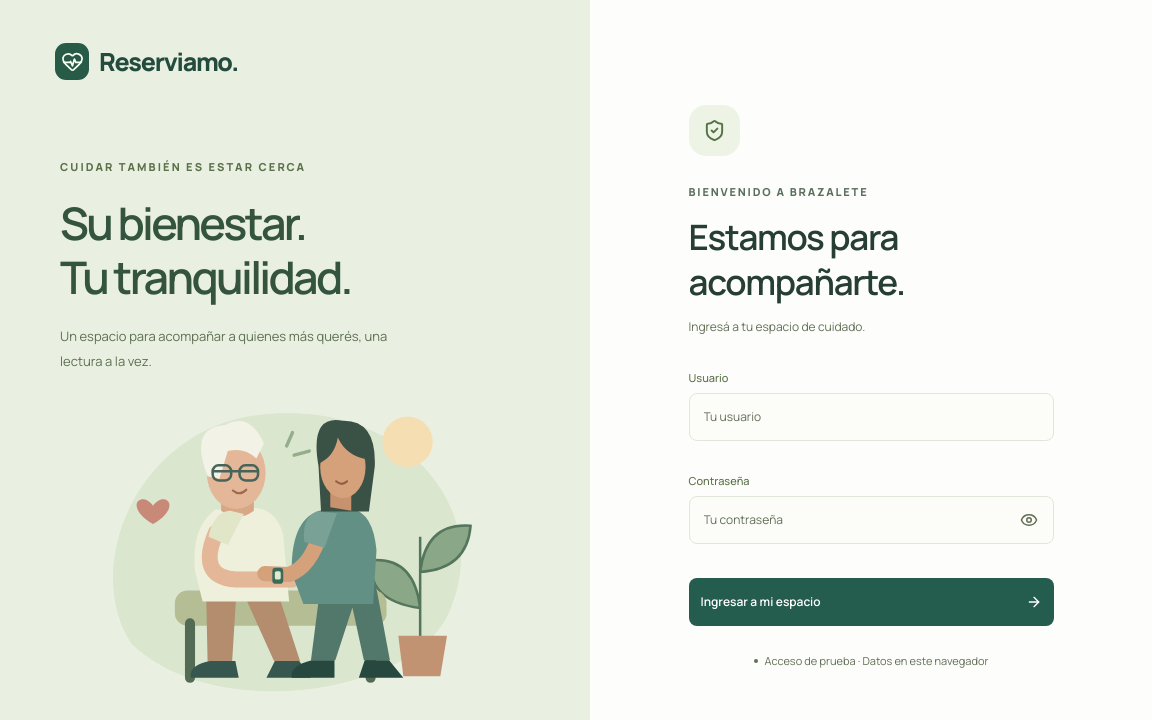
Test: Acceso y rutas › rechaza contraseña incorrecta y permite ver/ocultar su contenido
The image size is (1152, 720).
Step 1. Type "admin" into the field labelled "Usuario" → (871, 416), box [688,392,1054,440]
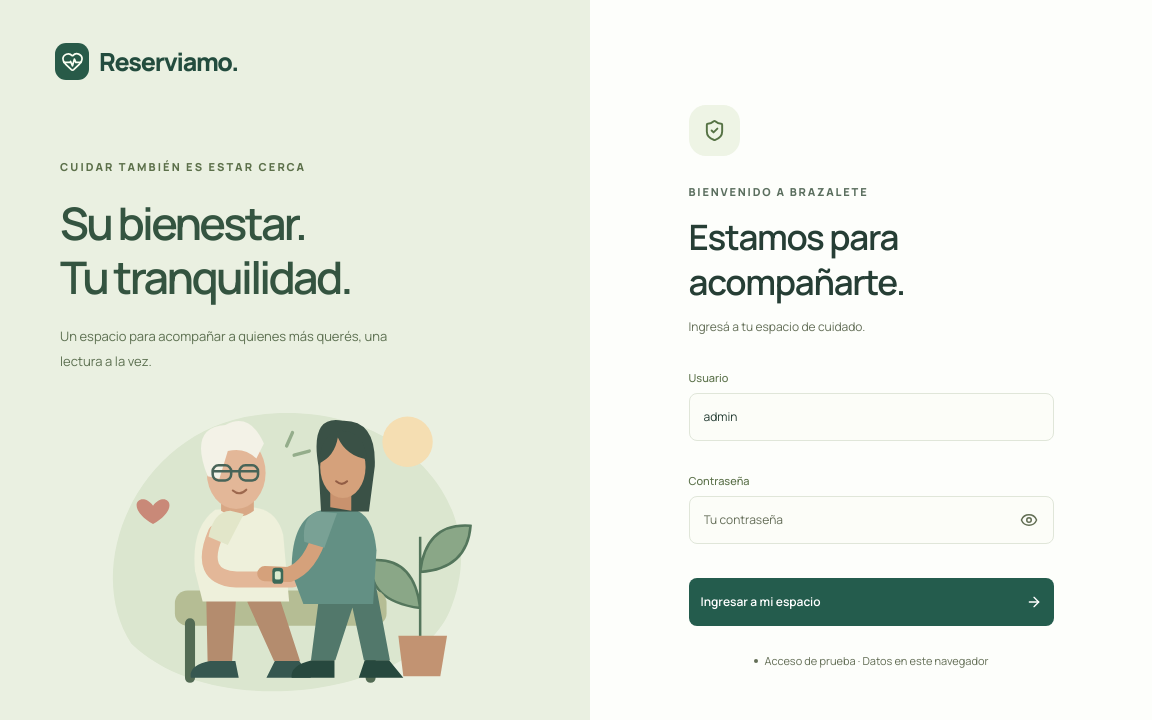
Step 2. Type "incorrecta" into the password field labelled "Contraseña" → (871, 520), box [688,496,1054,544]
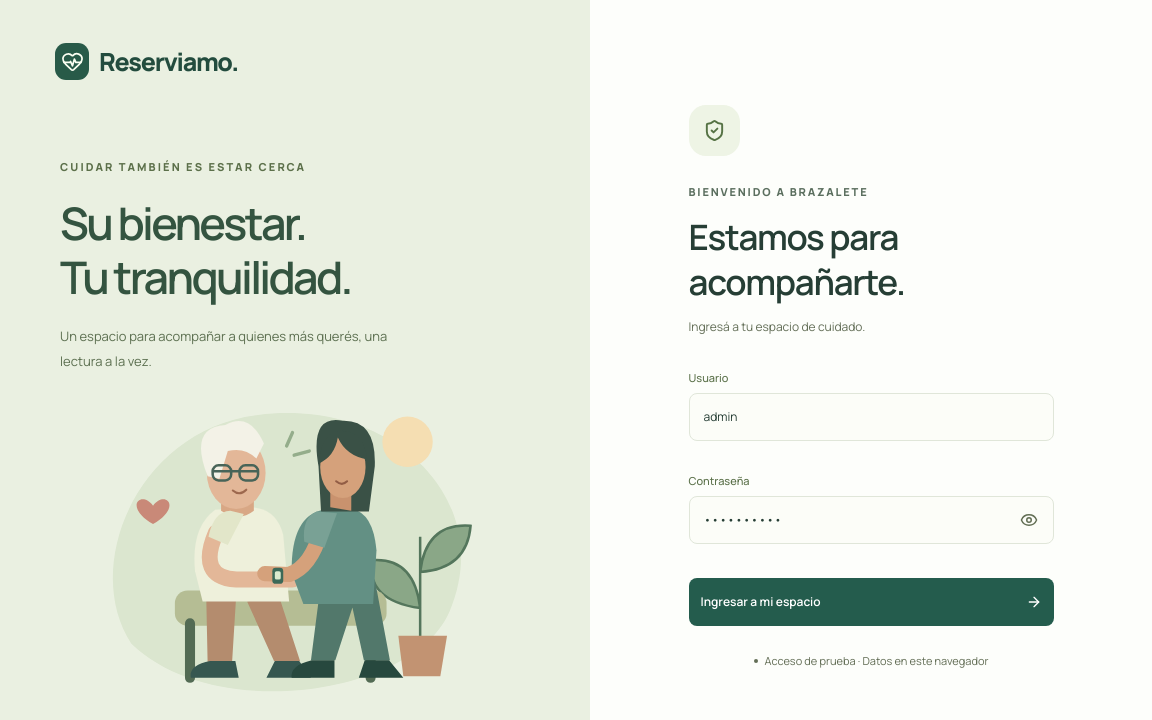
Step 3. Click the button named "Mostrar contraseña" → (1028, 520), box [1016,508,1040,532]
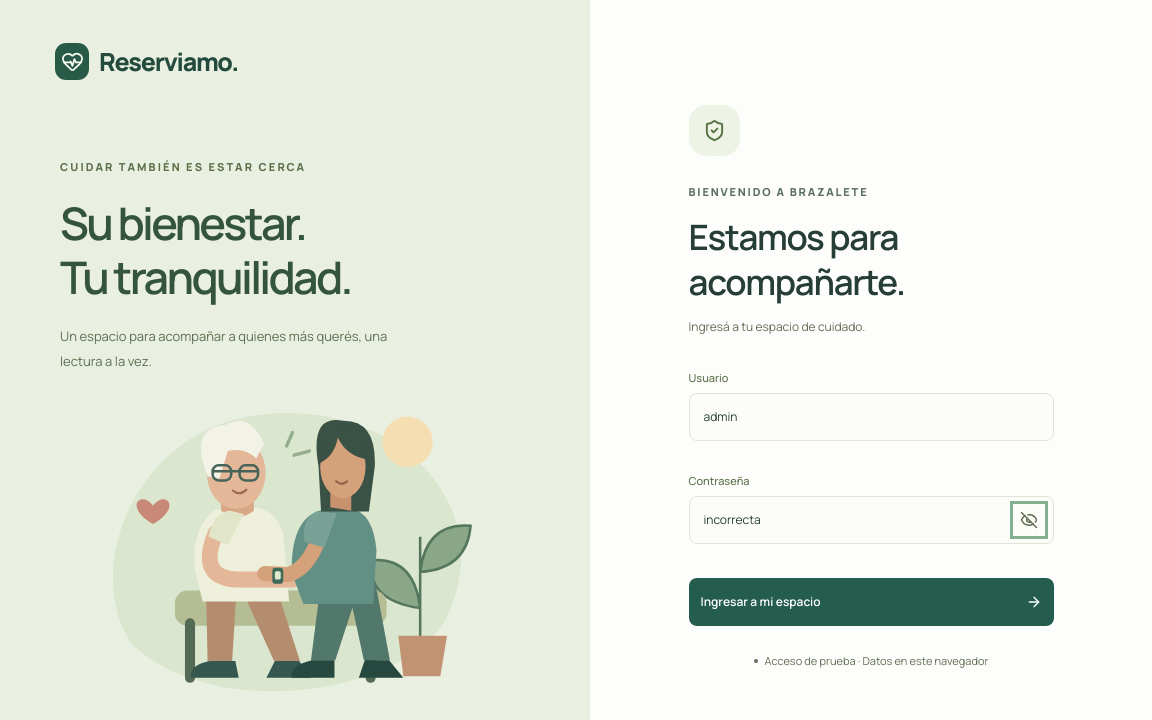
Expected: the field labelled "Contraseña" shows its text, [688,496,1054,544]
Step 4. Click the button "Ingresar a mi espacio" → (761, 601), box [688,578,1054,626]
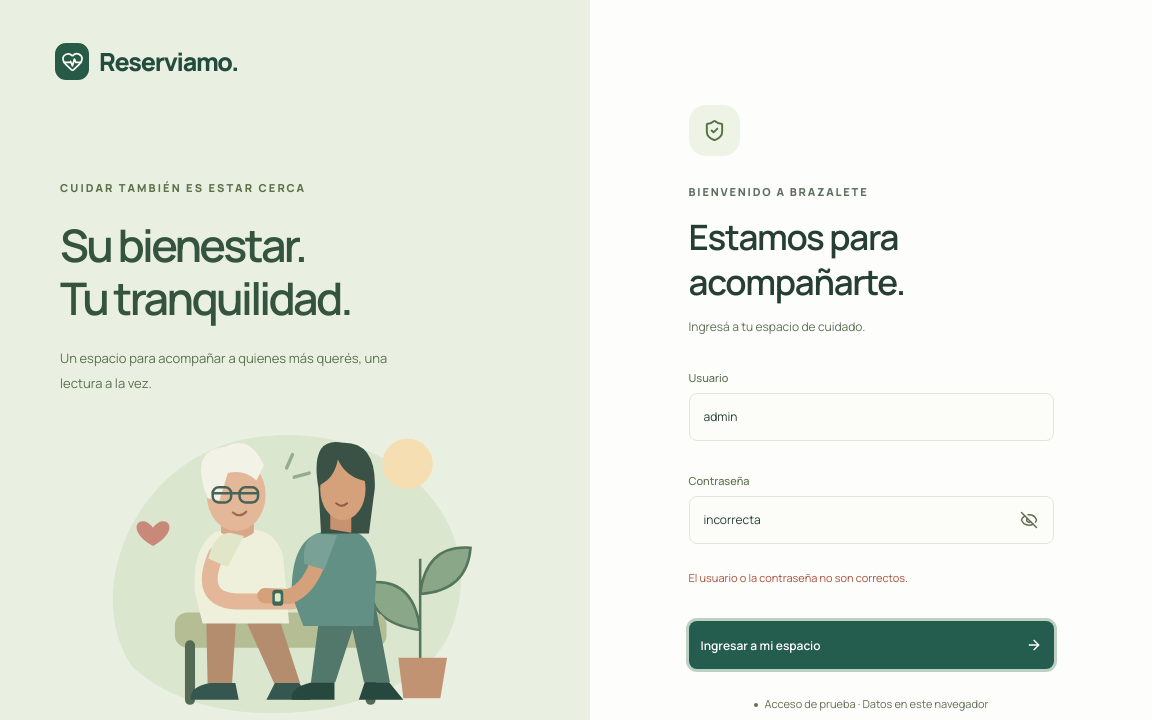
Expected: the message shows "no son correctos", [688,570,908,584]
